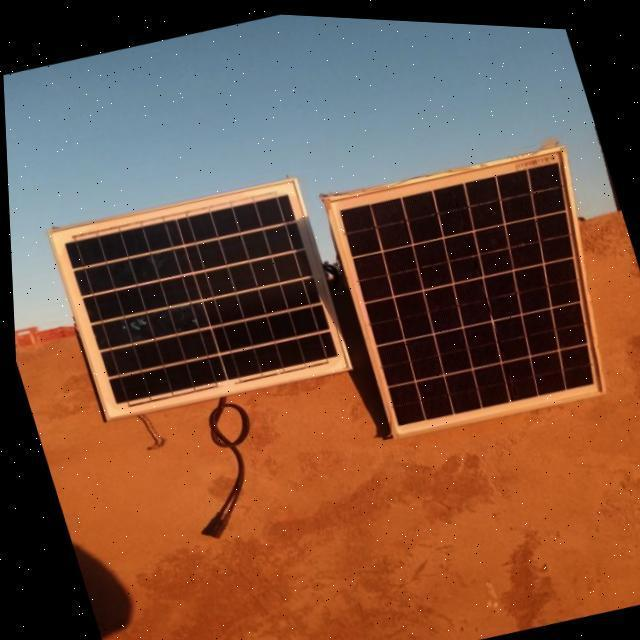Normal Solar Panel: (314, 130, 638, 445), (42, 162, 354, 431)
